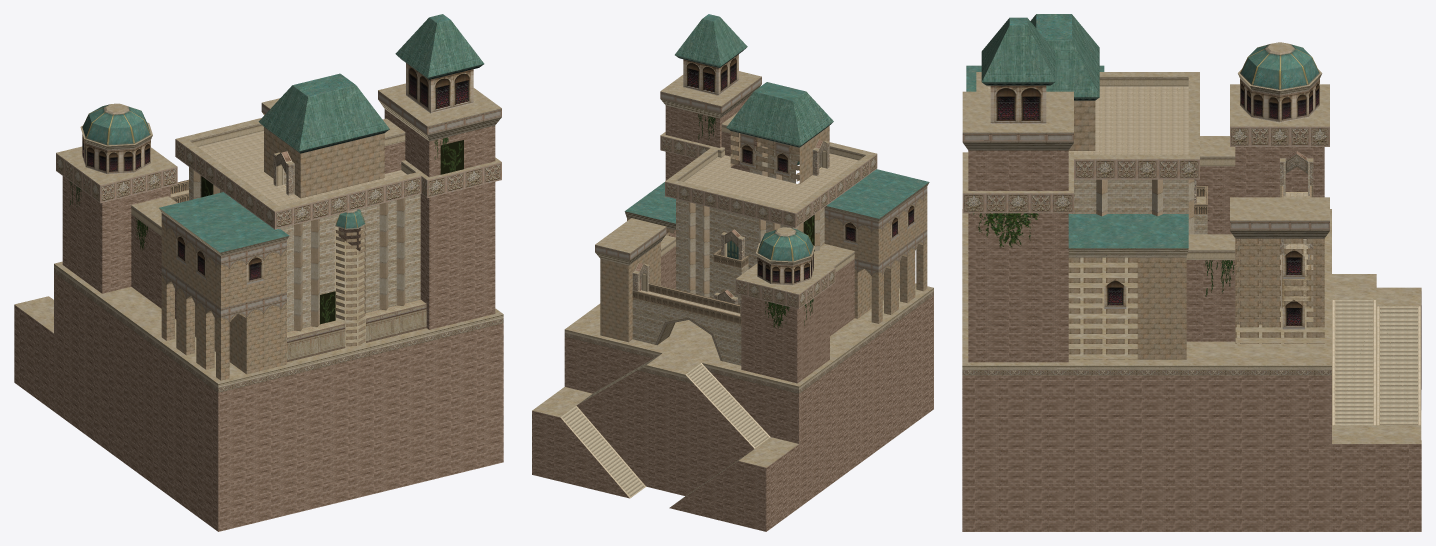
File: ply_nboo_house_lg_s01_fp1_r0_mesh_l1.fbx
The picture shows the model from 3 angles, left to right: view 1: azimuth 30°, elevation 25°; view 2: azimuth 150°, elevation 25°; view 3: azimuth 270°, elevation 25°; orthographic projection. The views are drawn at different scales.
Parts seen in each view (by area): view 1: mesh_node; view 2: mesh_node; view 3: mesh_node.
Part boxes in pixels (bbox=[...]): mesh_node: bbox=[14, 14, 503, 531]; mesh_node: bbox=[532, 14, 933, 531]; mesh_node: bbox=[962, 14, 1421, 531].
Size of the model in its own units: 33.3 by 48.5 by 41.26.
